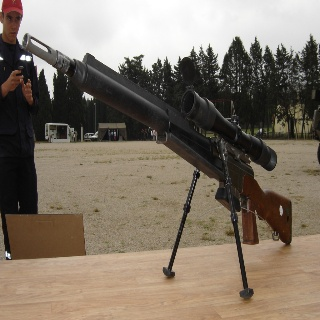rifle: (20, 30, 294, 246)
